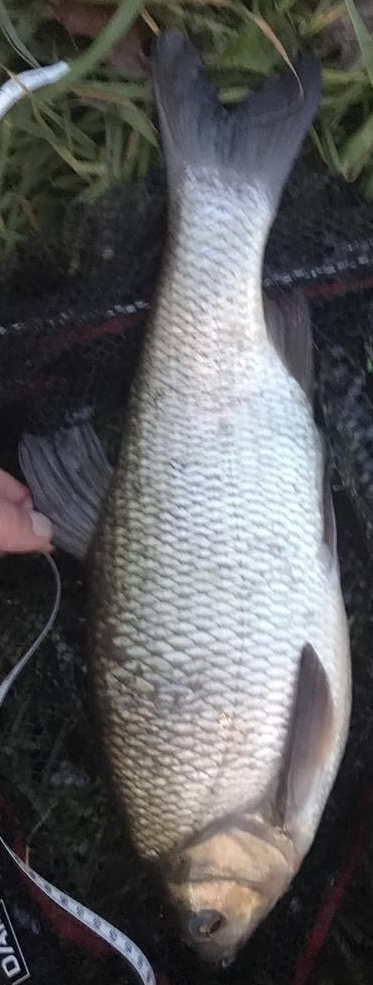Leuciscus idus: (20, 20, 353, 965)
